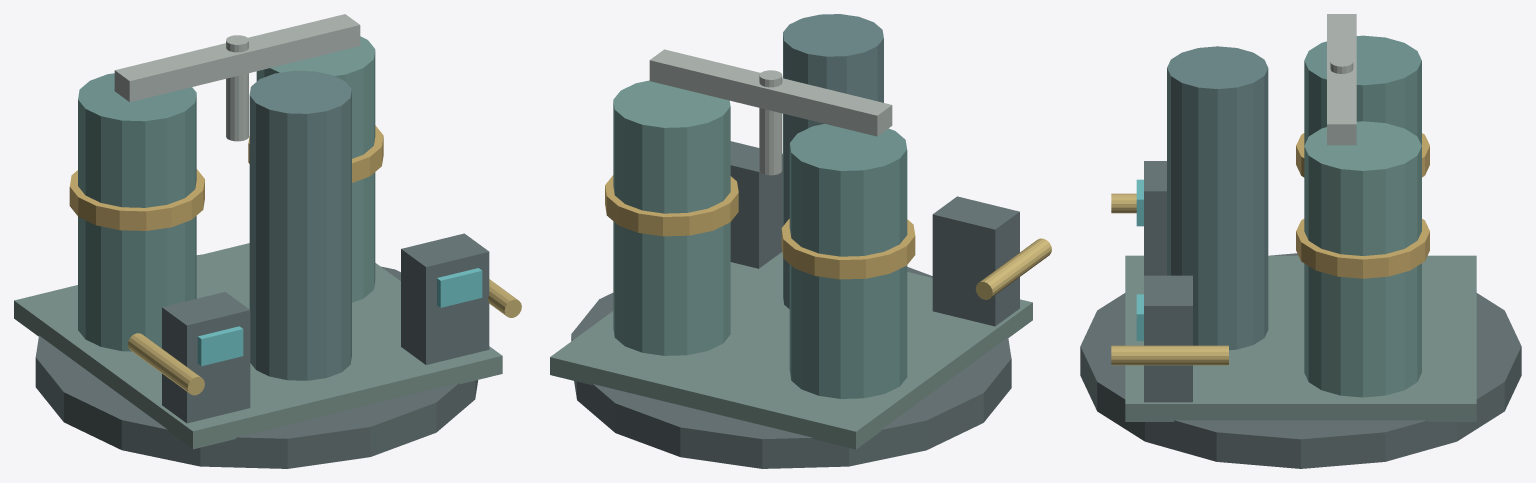
Rendered from refuel.glb.
3 renders of one model, left to right at view 1: azimuth 30°, elevation 25°; view 2: azimuth 150°, elevation 25°; view 3: azimuth 270°, elevation 25°, orthographic.
Bounding box in the file's own units: 2.7 × 2.12 × 2.7.
